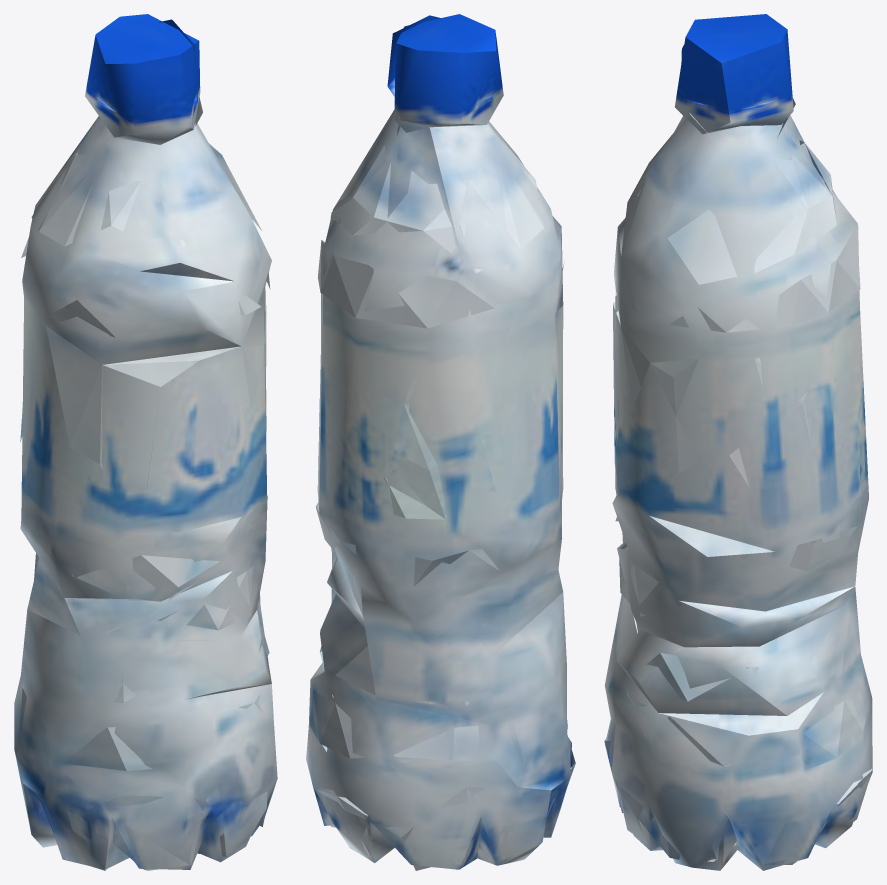
Rendered from item-water.glb.
3 views of the same model, side by side, from view 1: azimuth 30°, elevation 25°; view 2: azimuth 150°, elevation 25°; view 3: azimuth 270°, elevation 25° (orthographic).
Parts seen in each view (by area): view 1: water; view 2: water; view 3: water.
Boxes of the visible parts, x1,y1,x2,y2 form: water: [14, 14, 277, 870]; water: [306, 14, 575, 870]; water: [604, 14, 872, 870].
Size of the model in its own units: 0.07 by 0.23 by 0.07.
1 material, 1 textured.
